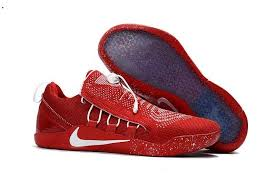nike: (67, 125, 132, 151)
